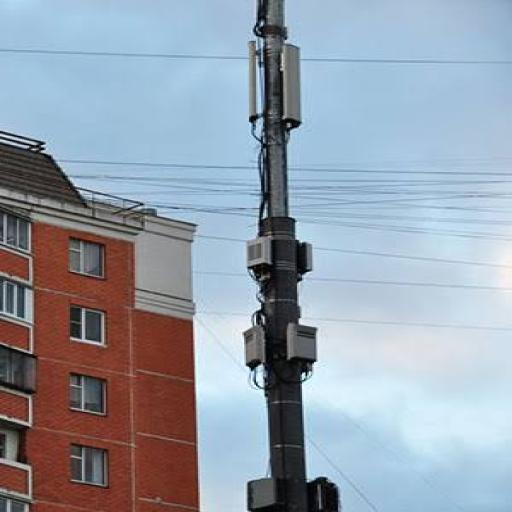odn_pole: (240, 0, 340, 511)
